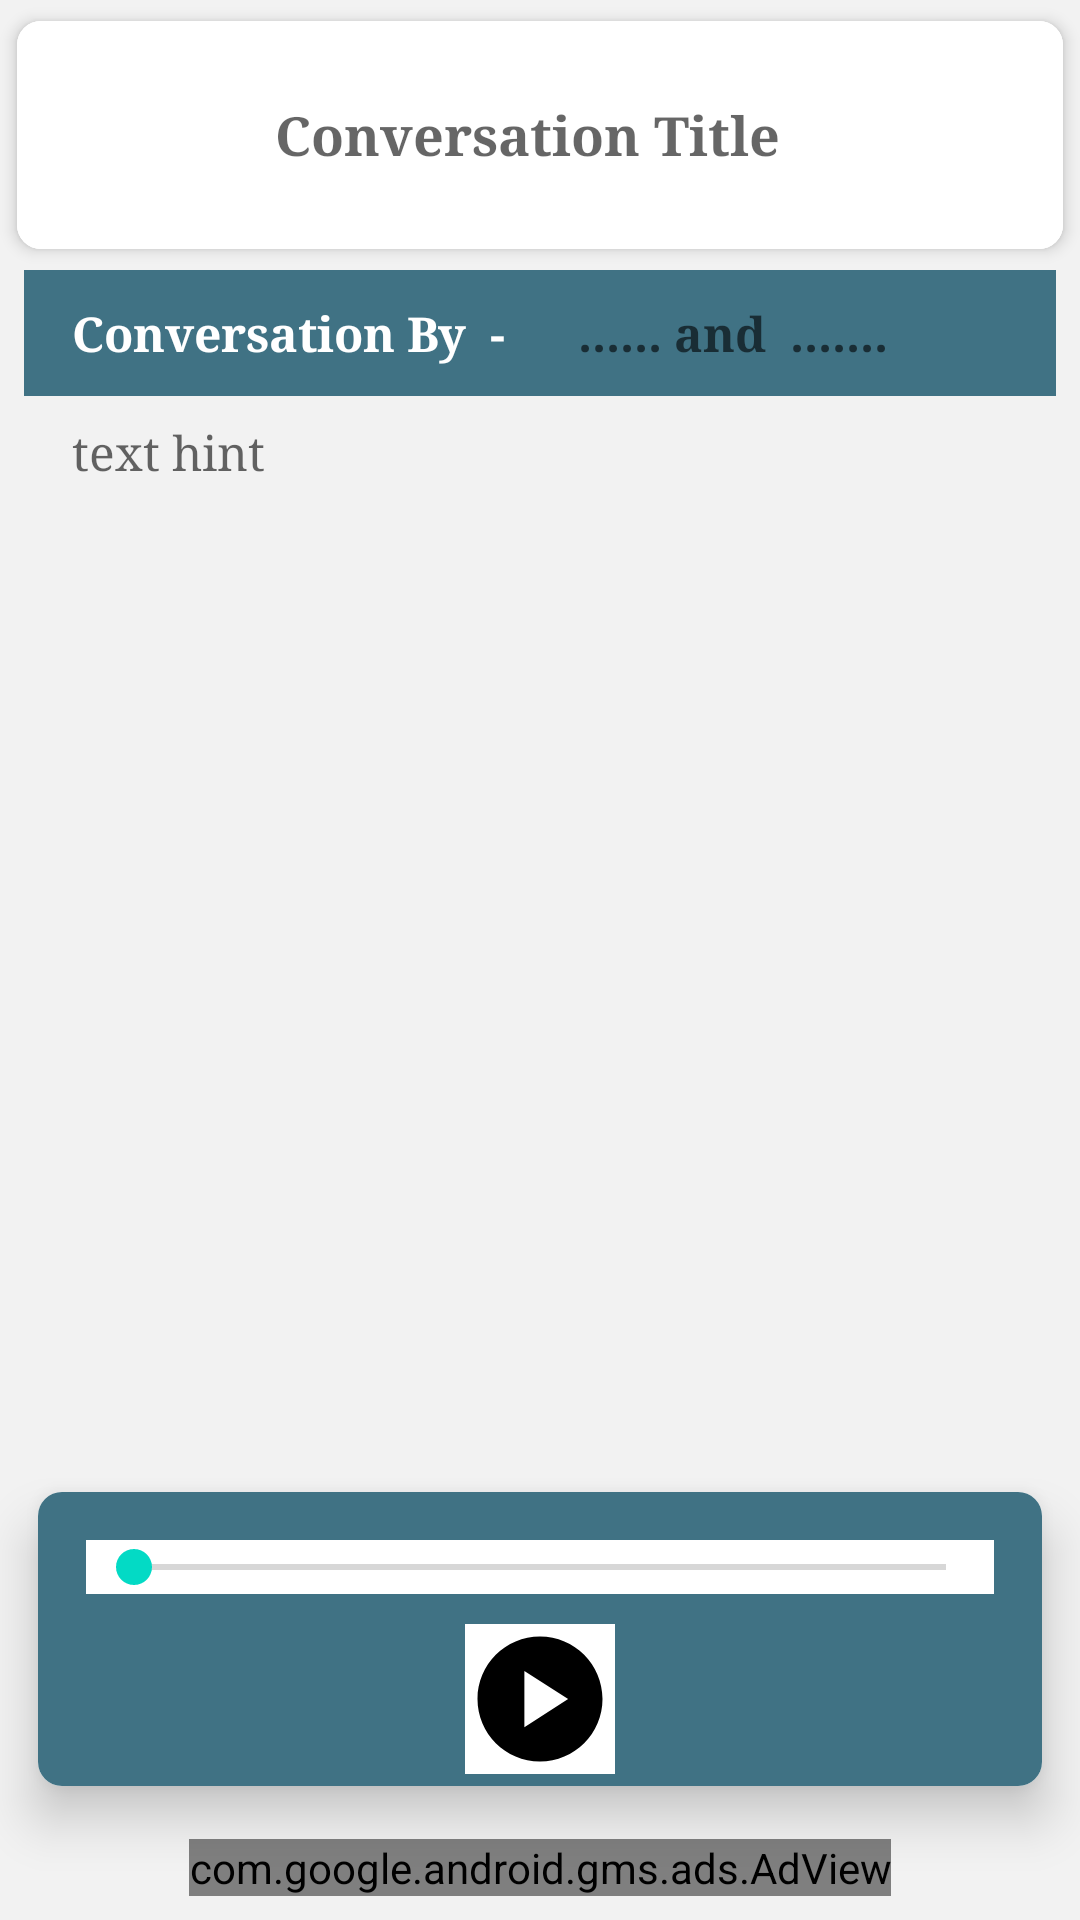

Icons on this 1080*1920 Android screen, each with its box as (x1, y1, x2, y2):
play: (465, 1624, 615, 1774)
